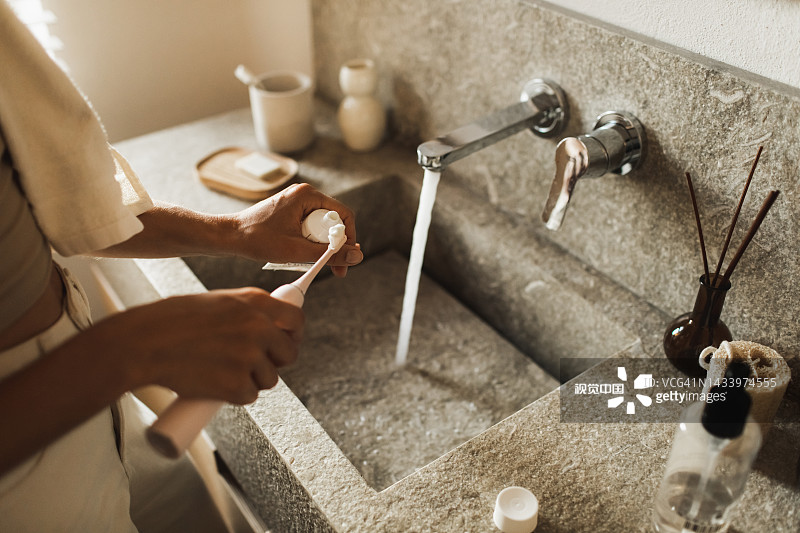no-phone: (110, 279, 318, 418), (218, 160, 376, 277)
